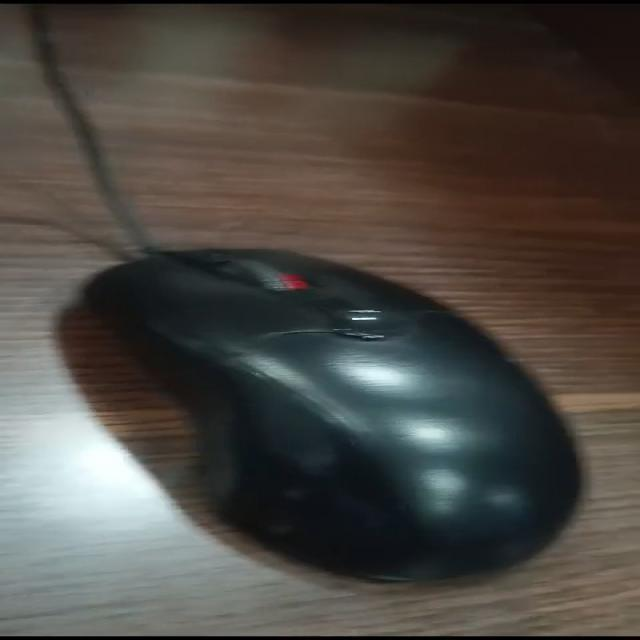Mouse: (27, 162, 622, 627)
